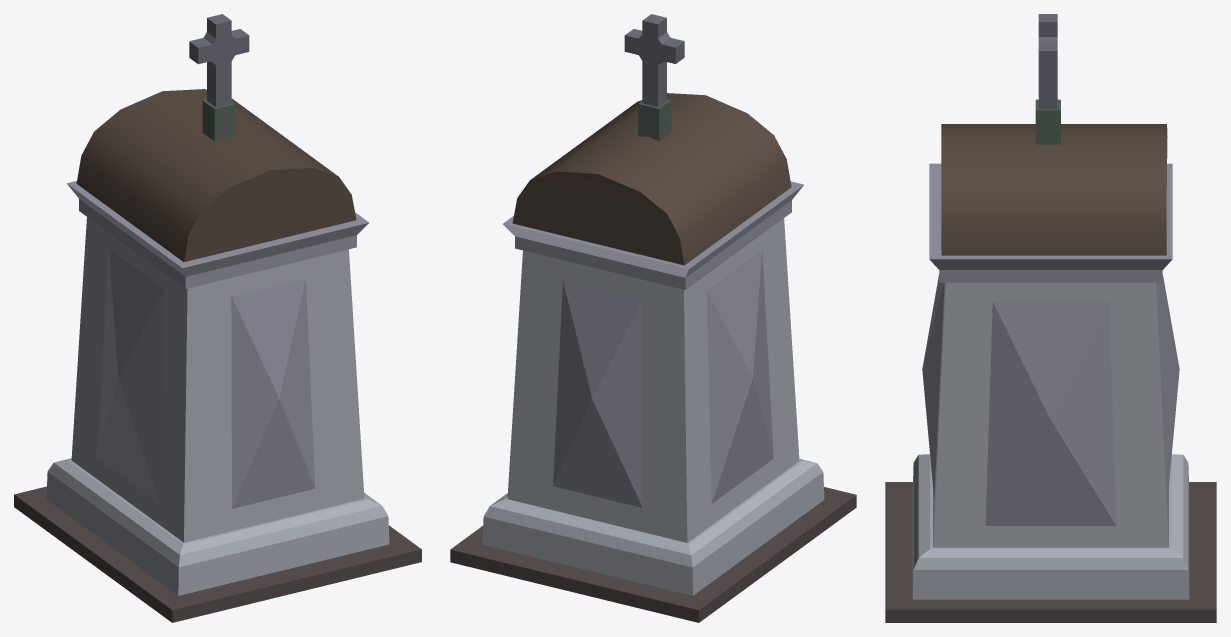
The model's file is HWN20_Grave_10.glb.
3 renders of one model, left to right at view 1: azimuth 30°, elevation 25°; view 2: azimuth 150°, elevation 25°; view 3: azimuth 270°, elevation 25°, orthographic. The views are drawn at different scales.
Visible parts, largest first — view 1: HWN20_Grave_10; view 2: HWN20_Grave_10; view 3: HWN20_Grave_10.
Part boxes in pixels (x1=…): HWN20_Grave_10: x1=14, y1=14, x2=421, y2=622; HWN20_Grave_10: x1=450, y1=14, x2=856, y2=622; HWN20_Grave_10: x1=885, y1=14, x2=1216, y2=622.
Size of what is drawn, in the model's own units: 1.22 by 2.42 by 1.34.
Materials: 1 (1 with a texture image).
